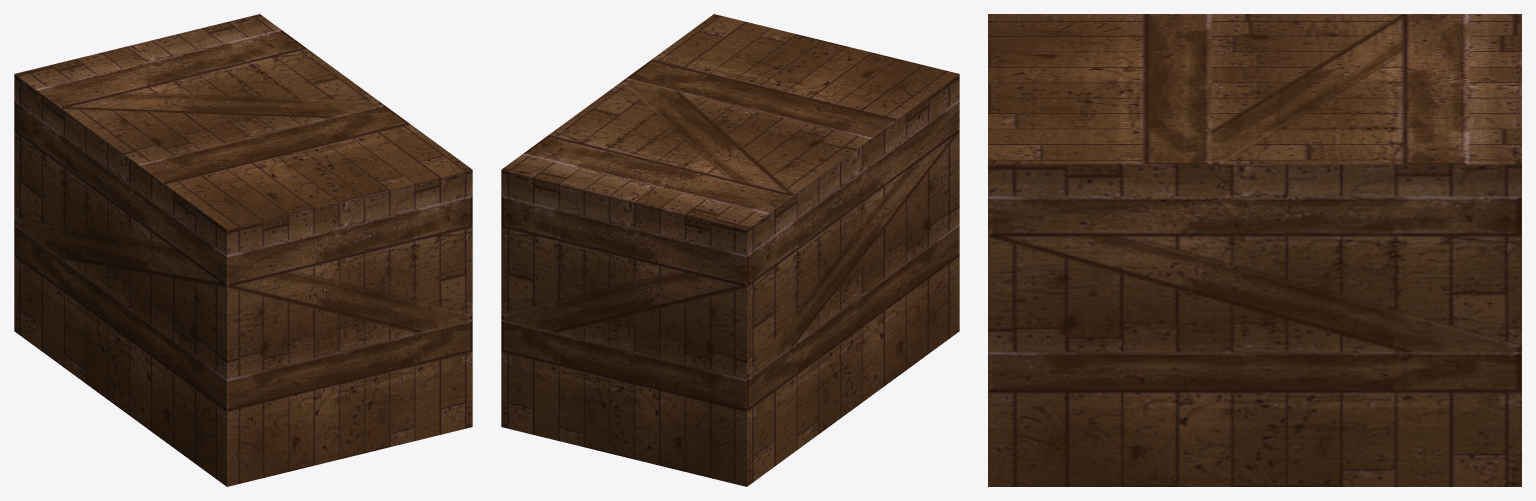
The model's file is crate.glb.
The picture shows the model from 3 angles, left to right: view 1: azimuth 30°, elevation 25°; view 2: azimuth 150°, elevation 25°; view 3: azimuth 270°, elevation 25°; orthographic projection. The views are drawn at different scales.
Visible parts, largest first — view 1: crate; view 2: crate; view 3: crate.
Boxes of the visible parts, box(x1,y1,x2,y2) form: crate: box(14, 14, 472, 486); crate: box(501, 14, 959, 486); crate: box(988, 14, 1521, 486).
Bounding box in the file's own units: 8 × 8 × 12.
1 material, 1 textured.
